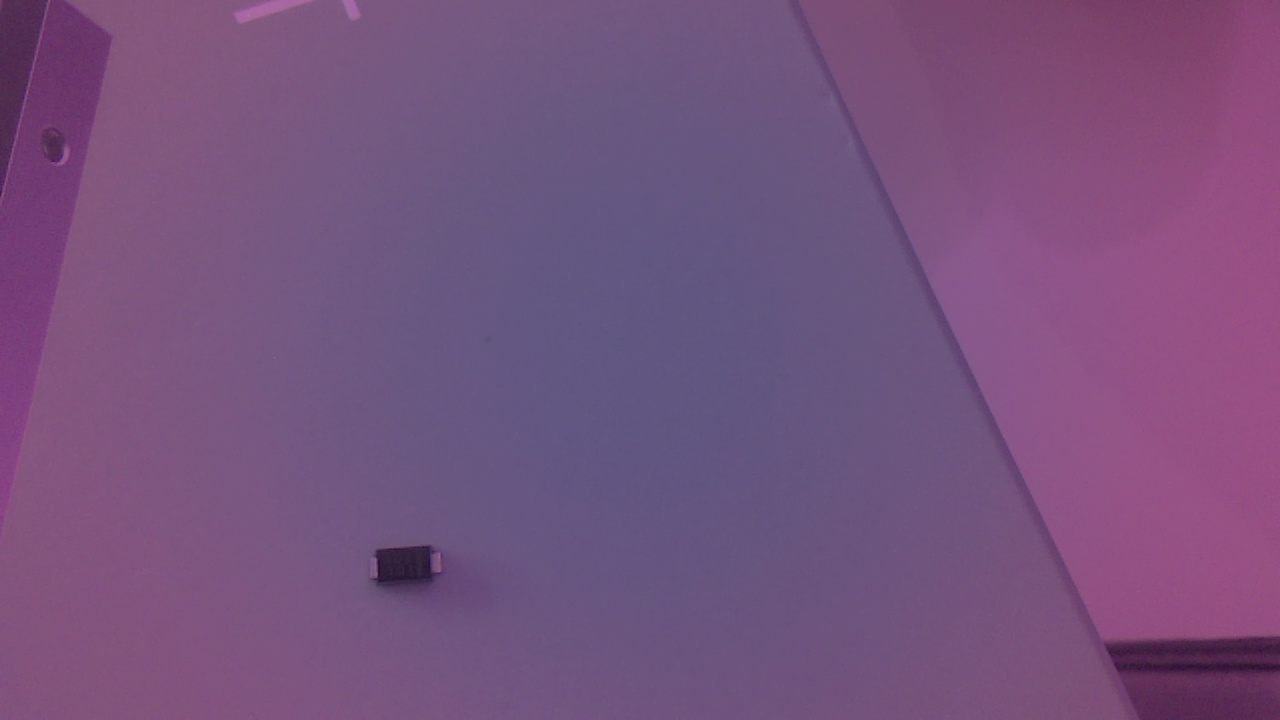Diode: (367, 542, 451, 596)
